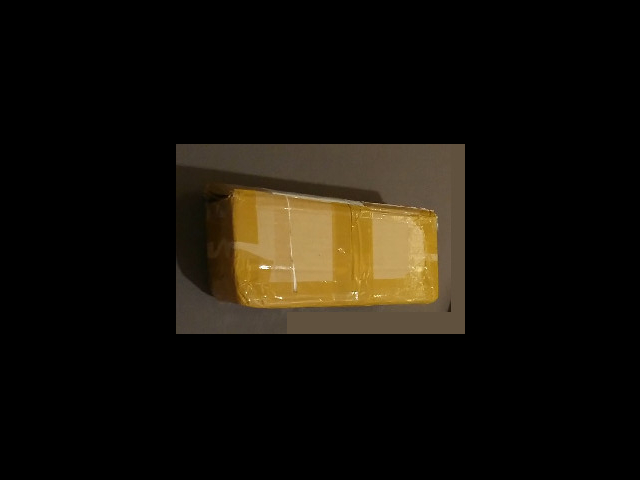cardboard: (204, 185, 440, 306)
